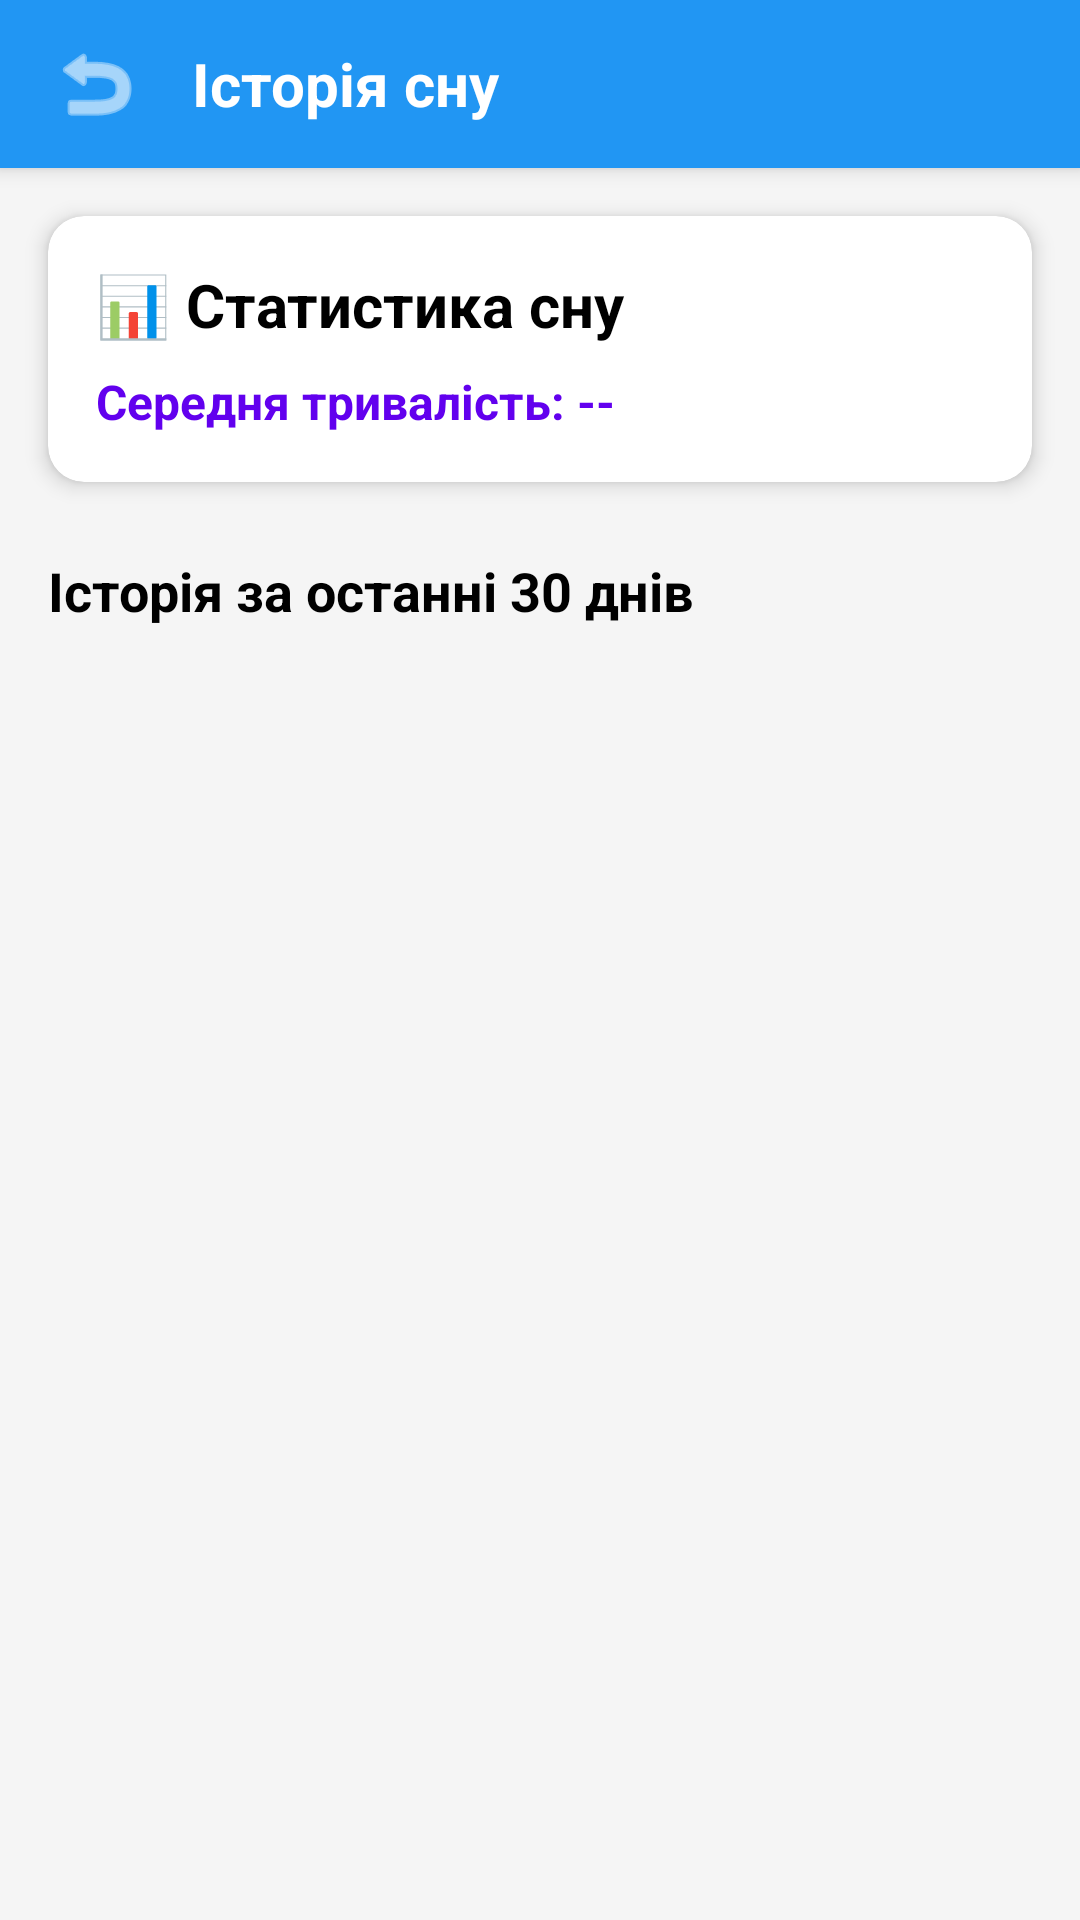

Screen size 1080x1920. Icon name, then its box in pixels as Rect(x1, y1, x2, y2):
Назад: Rect(63, 53, 132, 116)
